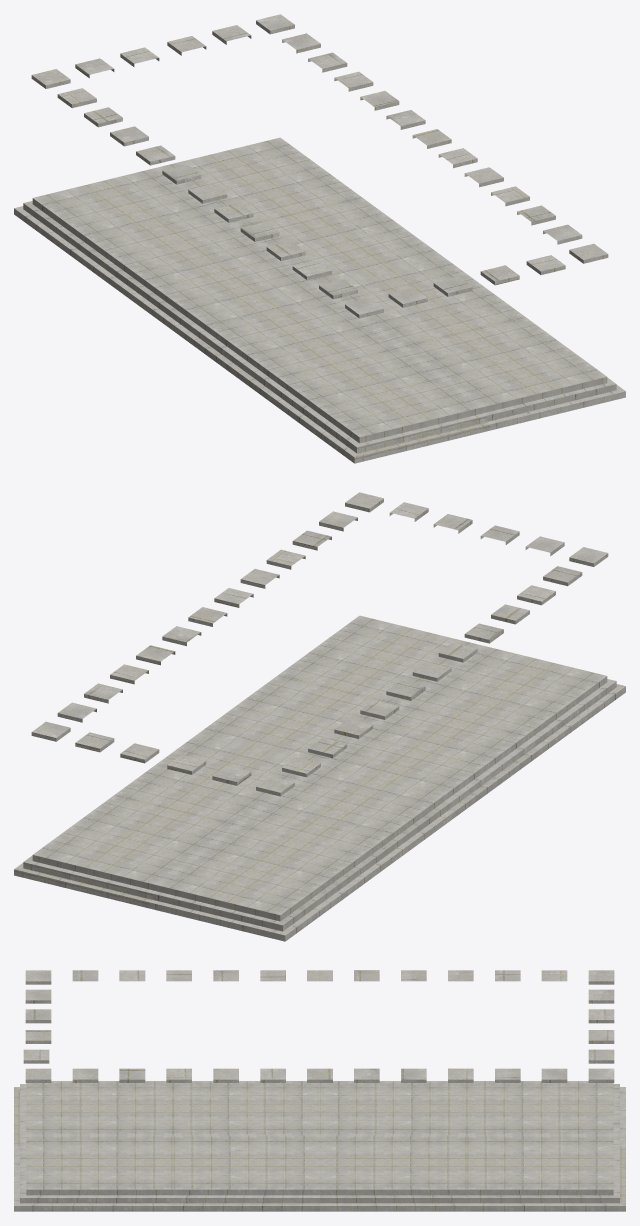
Rendered from parth_steps.dae.
3 views of the same model, one above another, from view 1: azimuth 30°, elevation 25°; view 2: azimuth 150°, elevation 25°; view 3: azimuth 270°, elevation 25° (orthographic). The views are drawn at different scales.
Parts seen in each view (by area): view 1: par_stairs-Pivot; view 2: par_stairs-Pivot; view 3: par_stairs-Pivot.
Boxes of the visible parts, x1=… form: par_stairs-Pivot: x1=14, y1=14, x2=625, y2=463; par_stairs-Pivot: x1=14, y1=492, x2=625, y2=941; par_stairs-Pivot: x1=14, y1=970, x2=625, y2=1211.
Size of the model in its own units: 25.59 by 55.63 by 12.74.
